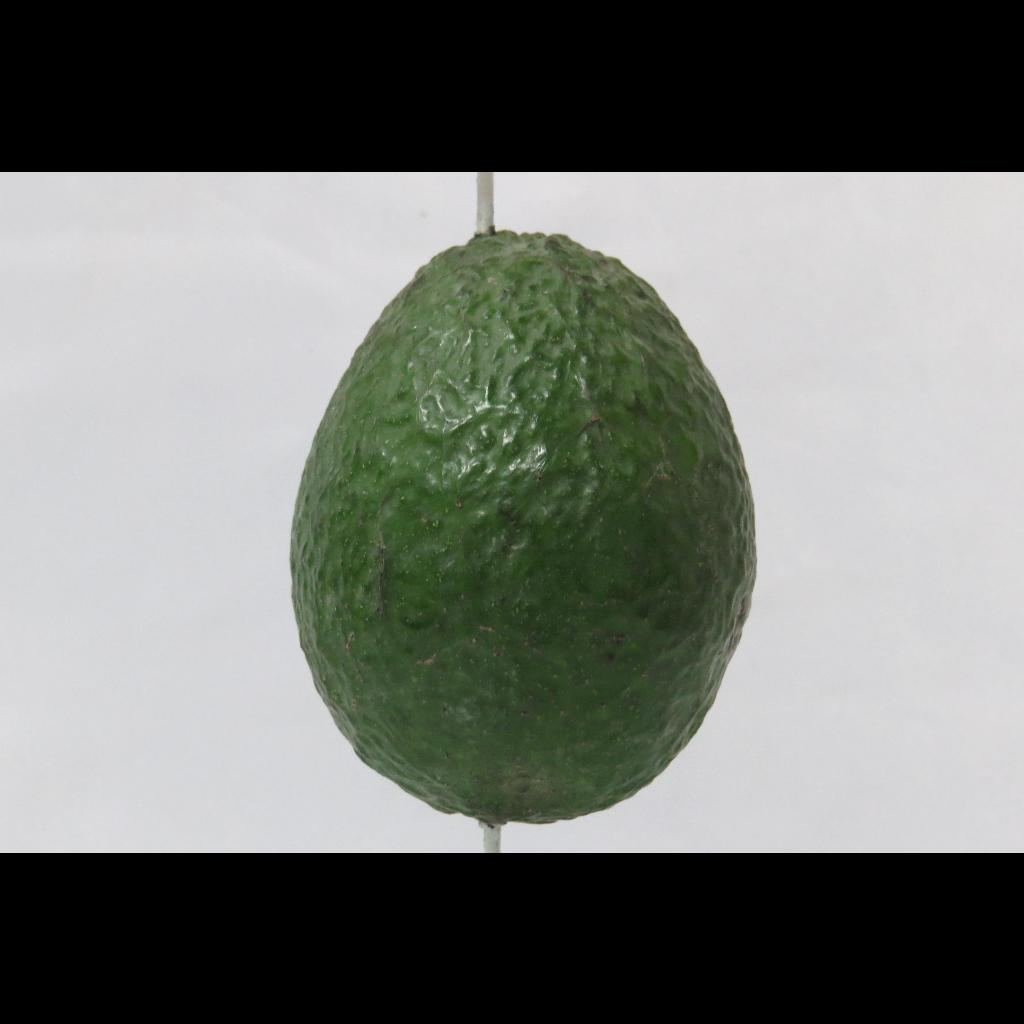Healthy: (218, 206, 796, 834)
